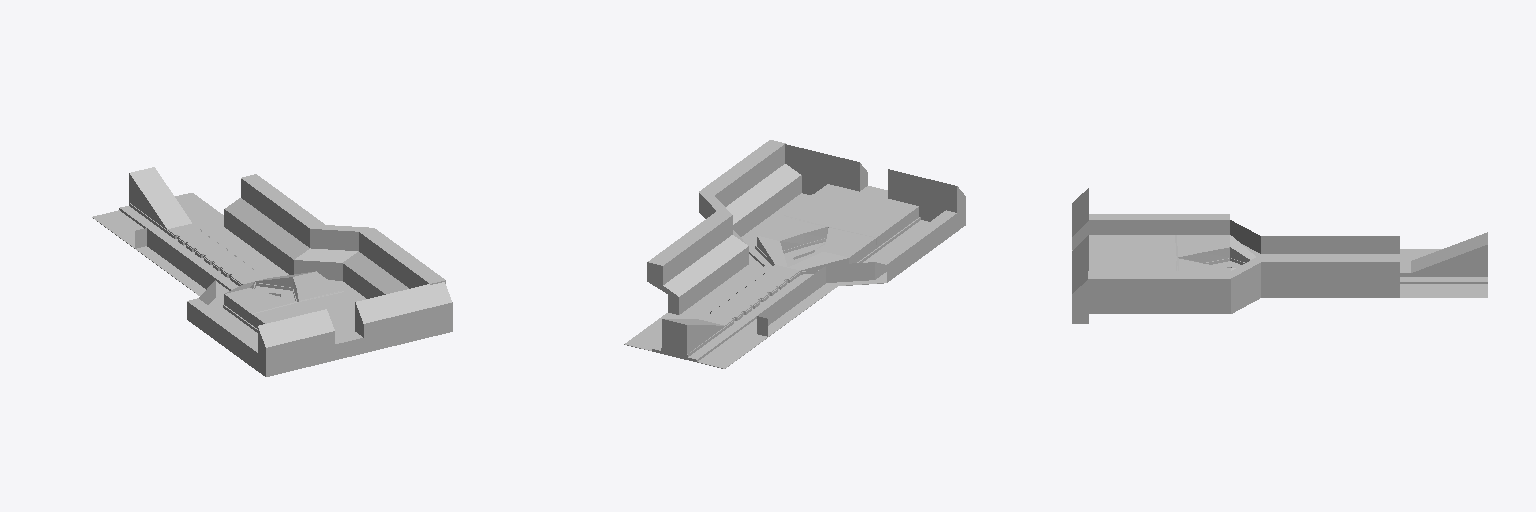
Rendered from GrandEntrance.obj.
The picture shows the model from 3 angles: view 1: azimuth 30°, elevation 25°; view 2: azimuth 150°, elevation 25°; view 3: azimuth 270°, elevation 25°; orthographic projection.
Parts seen in each view (by area): view 1: polySurface11; view 2: polySurface11; view 3: polySurface11.
Part boxes in pixels (x1,y1,x2,y2): polySurface11: (92, 167, 452, 376); polySurface11: (624, 140, 965, 368); polySurface11: (1072, 188, 1487, 323).
Bounding box in the file's own units: 13.54 × 3.19 × 25.9.